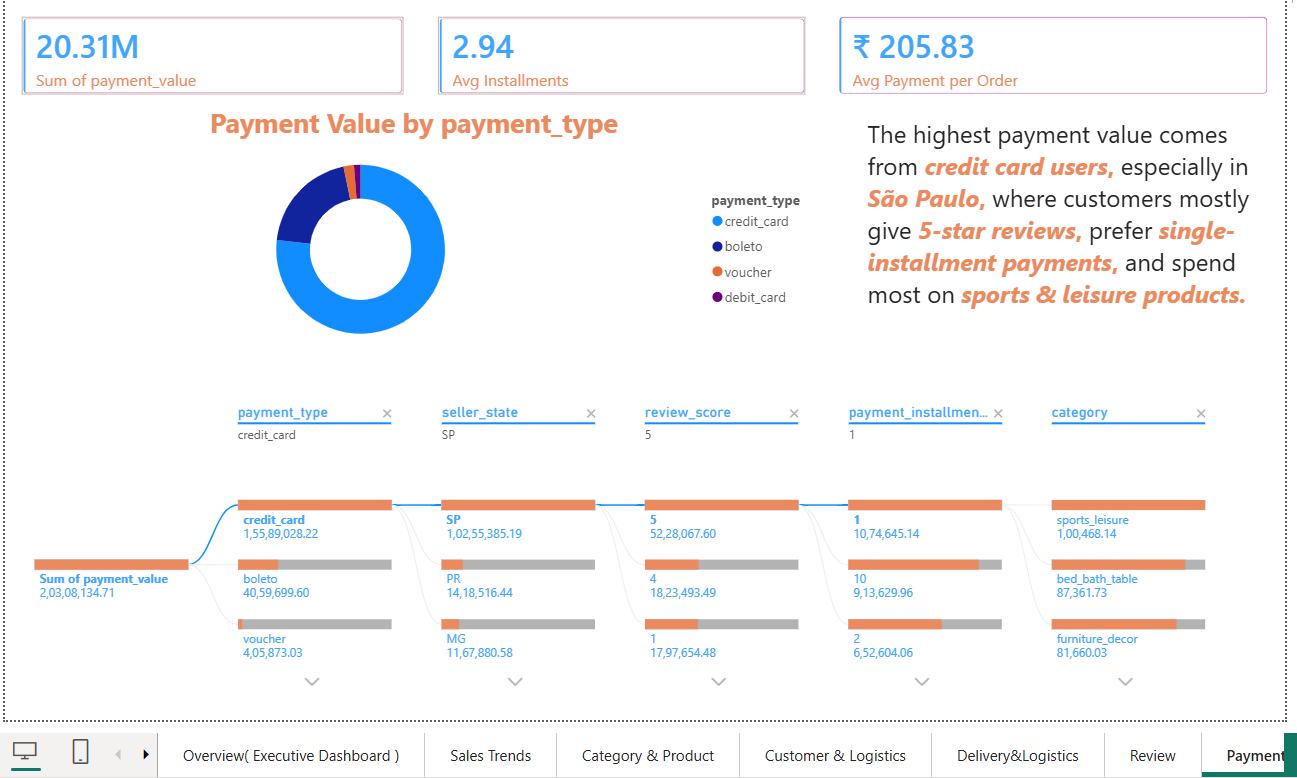

The page's visual inventory and layout, read from the dashboard file:
{"tool":"powerbi","page":{"name":"Payment","canvas":[1280,720],"ordinal":6},"visuals":[{"type":"cardVisual","fields":{"Data":["Sum(public bi_fact_sales.payment_value)"]},"box":[0,0,415.9,111.6],"z":0},{"type":"cardVisual","fields":{"Data":["public bi_fact_sales.Avg Payment per Order"]},"box":[817.4,0,462.3,111.6],"z":1000},{"type":"cardVisual","fields":{"Data":["public bi_fact_sales.Avg Installments"]},"box":[415.9,0,401.4,111.6],"z":2000},{"type":"donutChart","fields":{"Category":["public bi_fact_sales.payment_type"],"Y":["public bi_fact_sales.Payment Value"]},"box":[0,103.8,817.5,256.2],"z":3000},{"type":"decompositionTreeVisual","fields":{"Analyze":["Sum(public bi_fact_sales.payment_value)"],"ExplainBy":["public bi_fact_sales.payment_type","public bi_fact_sales.seller_state","public bi_fact_sales.review_score","public bi_fact_sales.payment_installments","public bi_fact_sales.category"]},"box":[0,387.5,1280,332.5],"z":4000},{"type":"textbox","box":[818,112,461,248],"z":5000}]}

Visuals, with their boxes on the page's 1280x720 design canvas (x1, y1, x2, y2). These are canvas units, not pixel positions in the 1297x778 screenshot, which may show the page scaled, cropped or inside an application window:
cardVisual - Sum(public bi_fact_sales.payment_value): crop(0, 0, 416, 112)
cardVisual - public bi_fact_sales.Avg Payment per Order: crop(817, 0, 1280, 112)
cardVisual - public bi_fact_sales.Avg Installments: crop(416, 0, 817, 112)
donutChart - public bi_fact_sales.payment_type x public bi_fact_sales.Payment Value: crop(0, 104, 818, 360)
decompositionTreeVisual - Sum(public bi_fact_sales.payment_value) x public bi_fact_sales.payment_type: crop(0, 388, 1280, 720)
textbox: crop(818, 112, 1279, 360)
